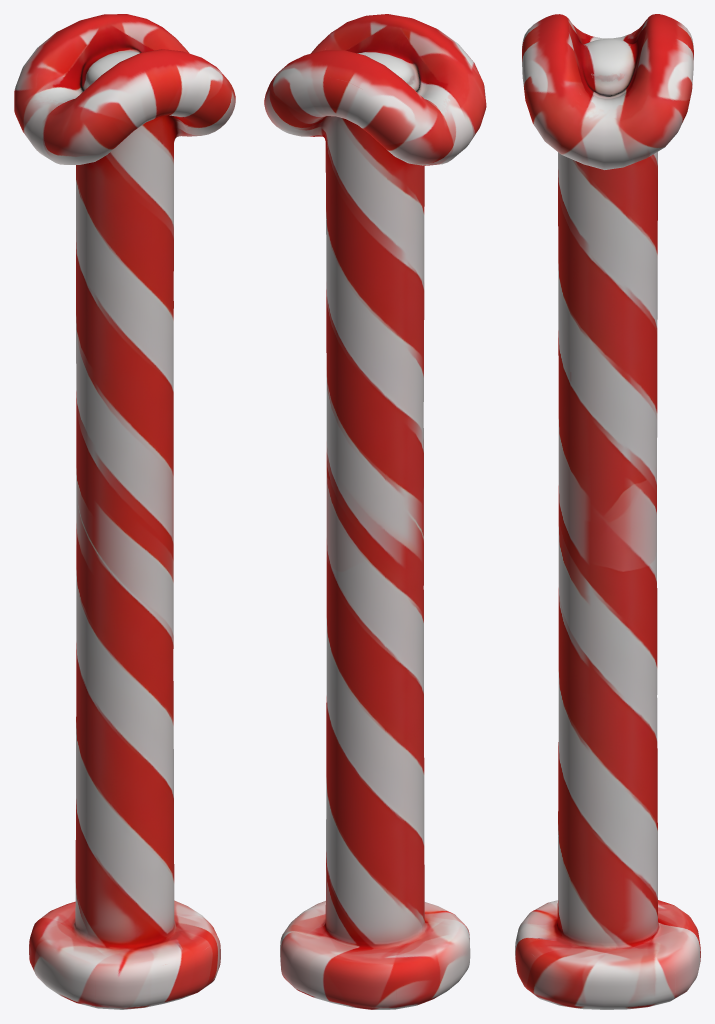
File: Meshy_AI_Candy_Cane_Glow_0104074853_texture.fbx
3 renders of one model, left to right at view 1: azimuth 30°, elevation 25°; view 2: azimuth 150°, elevation 25°; view 3: azimuth 270°, elevation 25°, orthographic.
Parts seen in each view (by area): view 1: Mesh0; view 2: Mesh0; view 3: Mesh0.
Boxes of the visible parts, <box> form: Mesh0: <box>14,14,235,1009</box>; Mesh0: <box>264,14,486,1009</box>; Mesh0: <box>515,14,700,1009</box>.
Size of the model in its own units: 38.36 by 191 by 33.83.
1 material, 1 textured.
